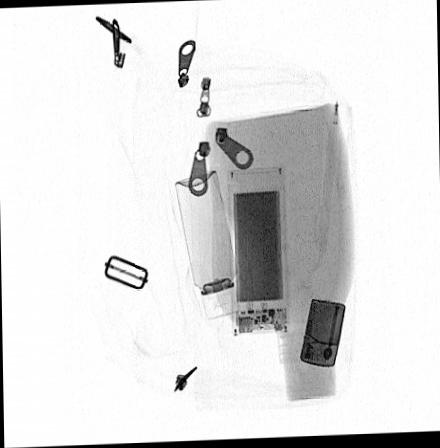Lighter: (297, 299, 345, 369)
Powerbank: (225, 167, 288, 337)
Sprayer: (173, 172, 239, 321)
